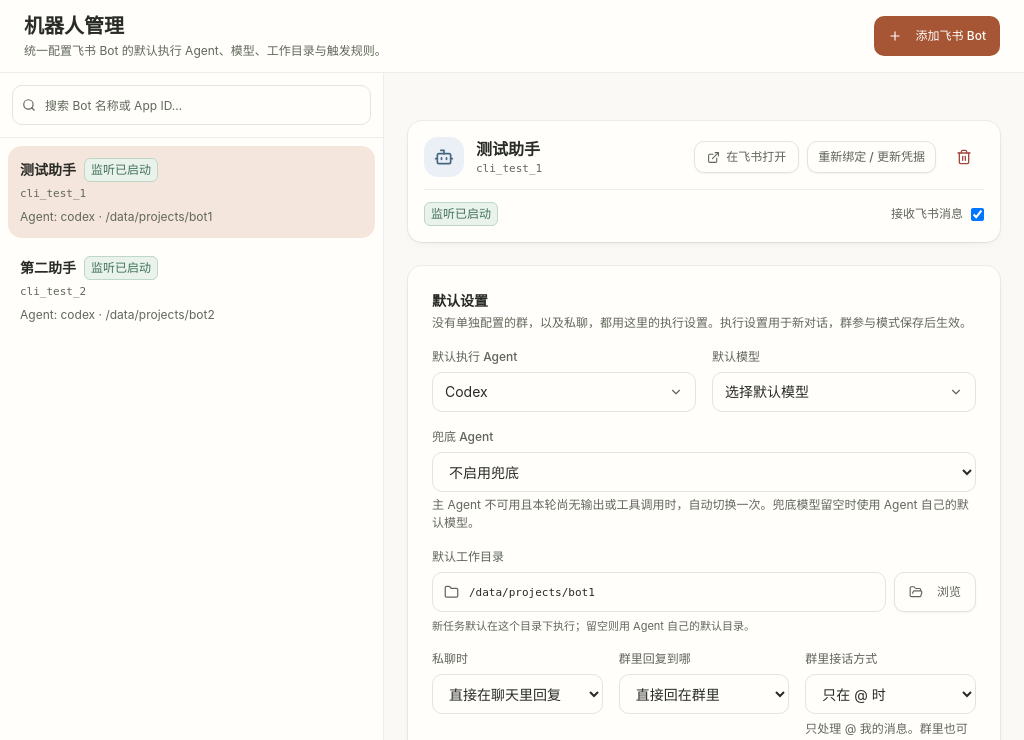
Scenario: BotManagement 会话记忆 › 切换机器人时重新读取对应机器人的记忆状态
The image size is (1024, 740).
Click the button "第二助手 监听已启动 cli_test_2 Agent: codex · /data/projects/bot2".
click(48, 268)  # box [8,244,375,336]
(page scrolled)
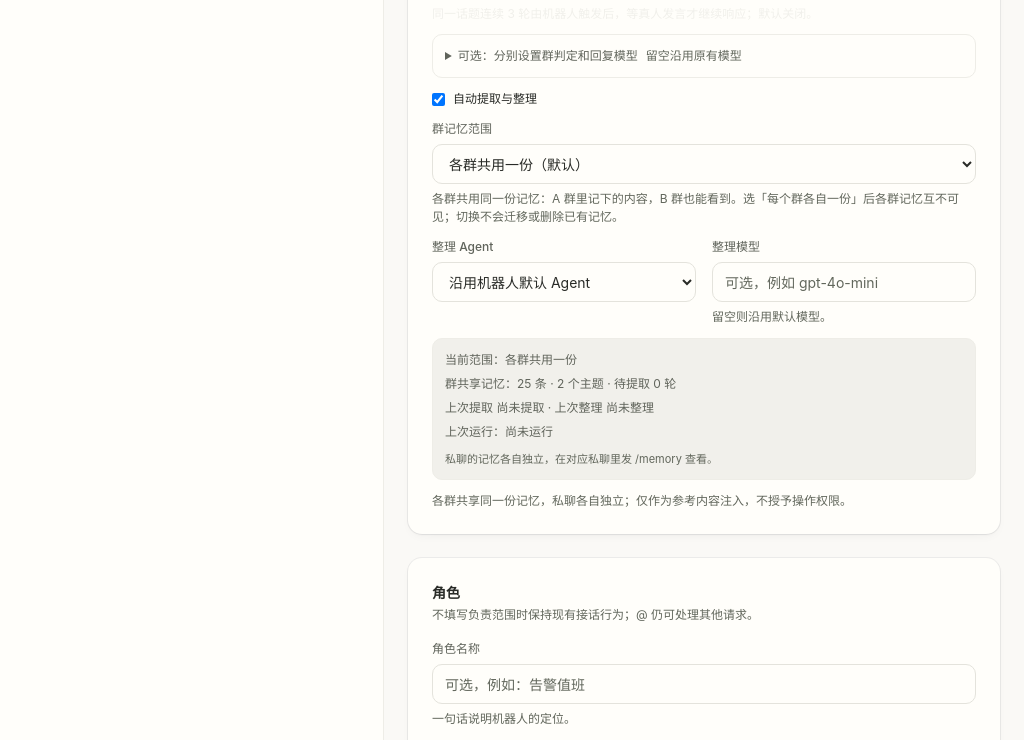
Result: the text "群共享记忆：25 条 · 2 个主题 · 待提取 0 轮" is shown at [445,376,676,391]
